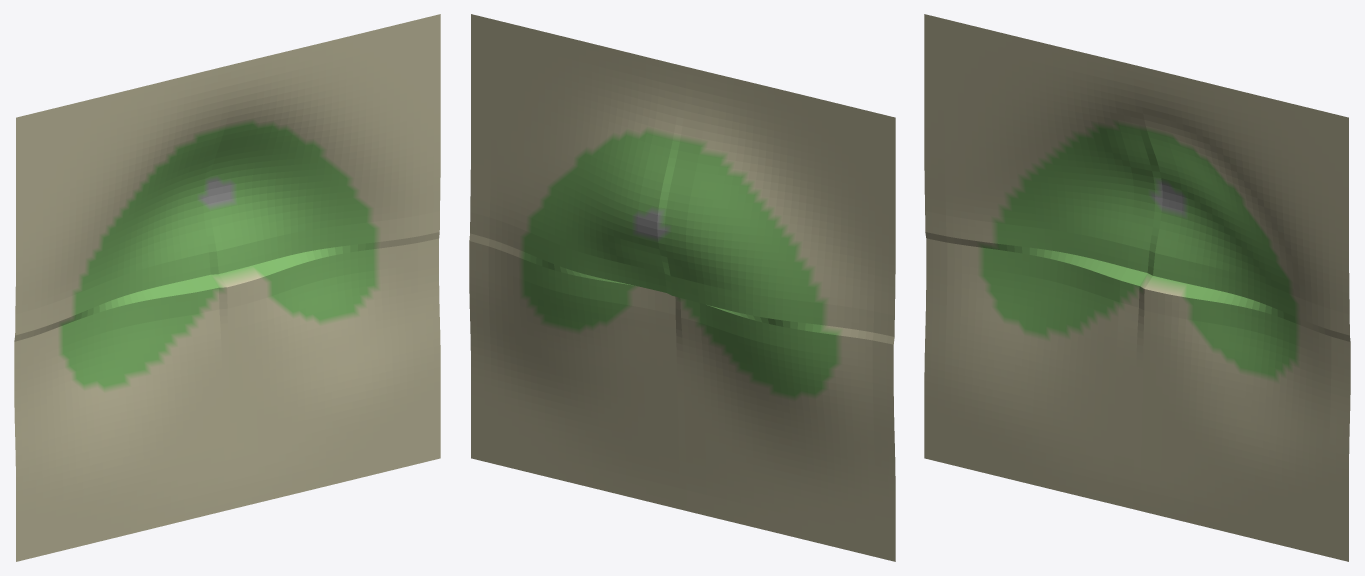
Rendered from engain_biome_terrain.glb.
3 views of the same model, side by side, from view 1: azimuth 30°, elevation 25°; view 2: azimuth 150°, elevation 25°; view 3: azimuth 330°, elevation 25° (orthographic).
Parts seen in each view (by area): view 1: WF_Terrain; view 2: WF_Terrain; view 3: WF_Terrain.
Boxes of the visible parts, x1,y1,x2,y2 form: WF_Terrain: (14, 14, 440, 561); WF_Terrain: (469, 14, 895, 561); WF_Terrain: (924, 14, 1350, 561).
Bounding box in the file's own units: 47.25 × 47.25 × 4.37.
